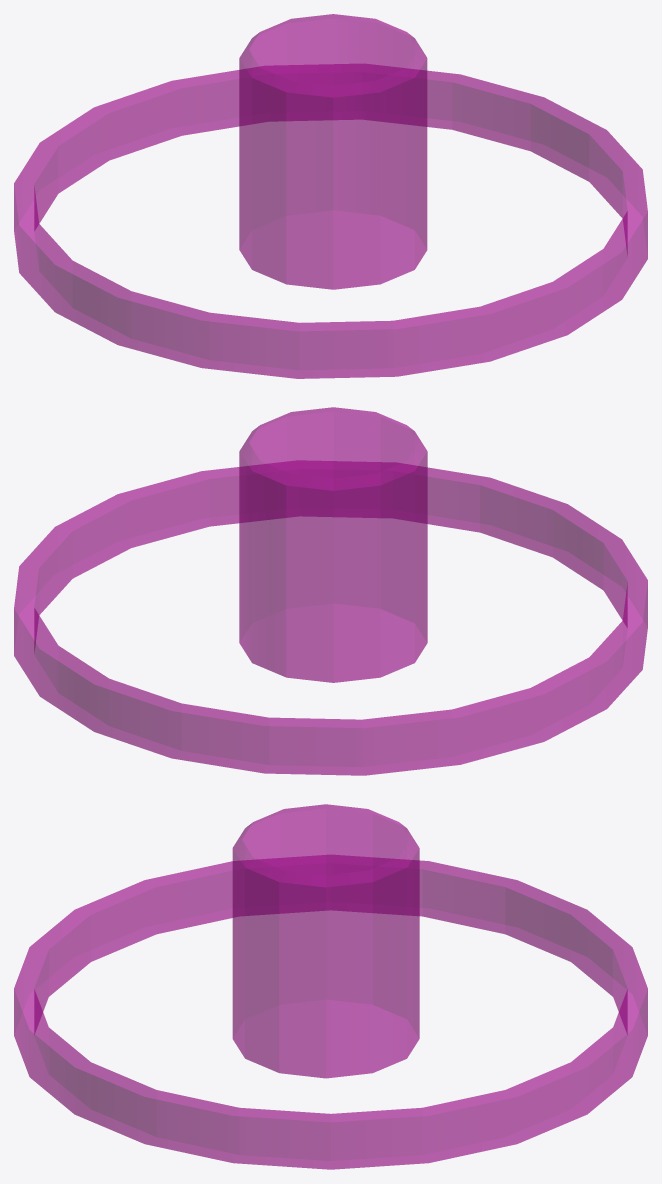
Rendered from SM_Prop_Teacup_Ride_01_Collision.fbx.
3 views of the same model, one above another, from view 1: azimuth 30°, elevation 25°; view 2: azimuth 150°, elevation 25°; view 3: azimuth 270°, elevation 25° (orthographic).
Visible parts, largest first — view 1: SM_Prop_Teacup_Ride_01_Collision; view 2: SM_Prop_Teacup_Ride_01_Collision; view 3: SM_Prop_Teacup_Ride_01_Collision.
Part boxes in pixels (box(x1,y1,x2,y2)): SM_Prop_Teacup_Ride_01_Collision: box(14, 14, 647, 378); SM_Prop_Teacup_Ride_01_Collision: box(14, 407, 647, 775); SM_Prop_Teacup_Ride_01_Collision: box(14, 804, 647, 1169).
Bounding box in the file's own units: 725 × 251 × 725.
